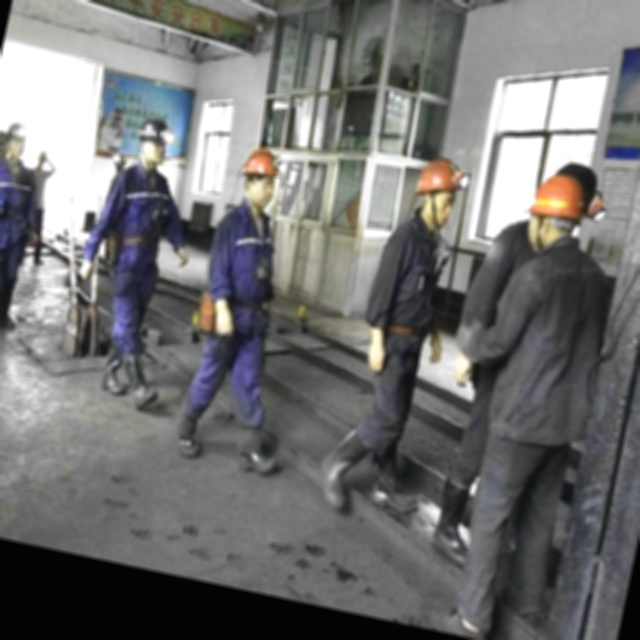Con_Casco: (234, 143, 284, 209)
